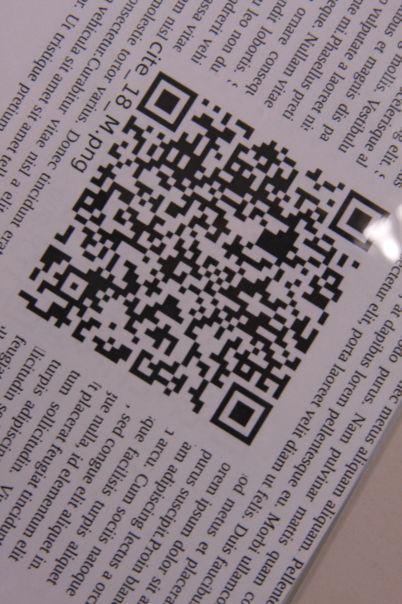Finder pattern: (326, 189, 393, 256), (206, 384, 276, 447), (130, 71, 203, 131)
